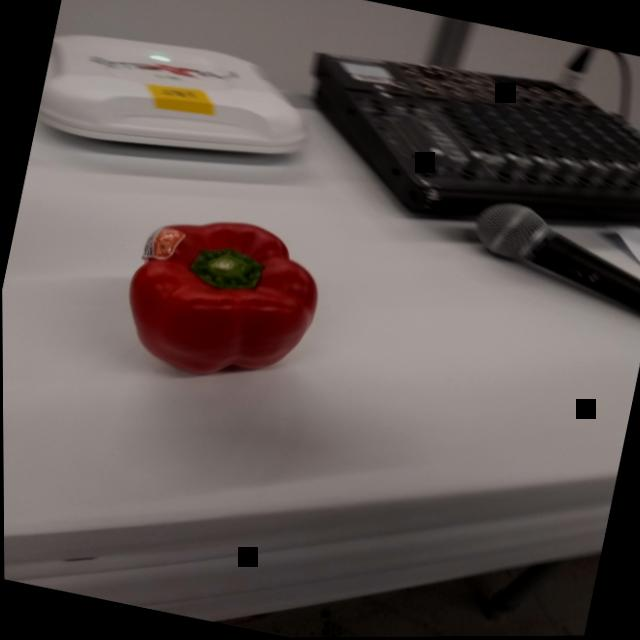paprika: (108, 200, 338, 400)
